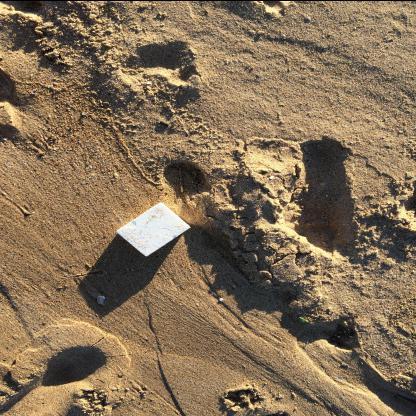kopuk: (116, 202, 191, 256)
